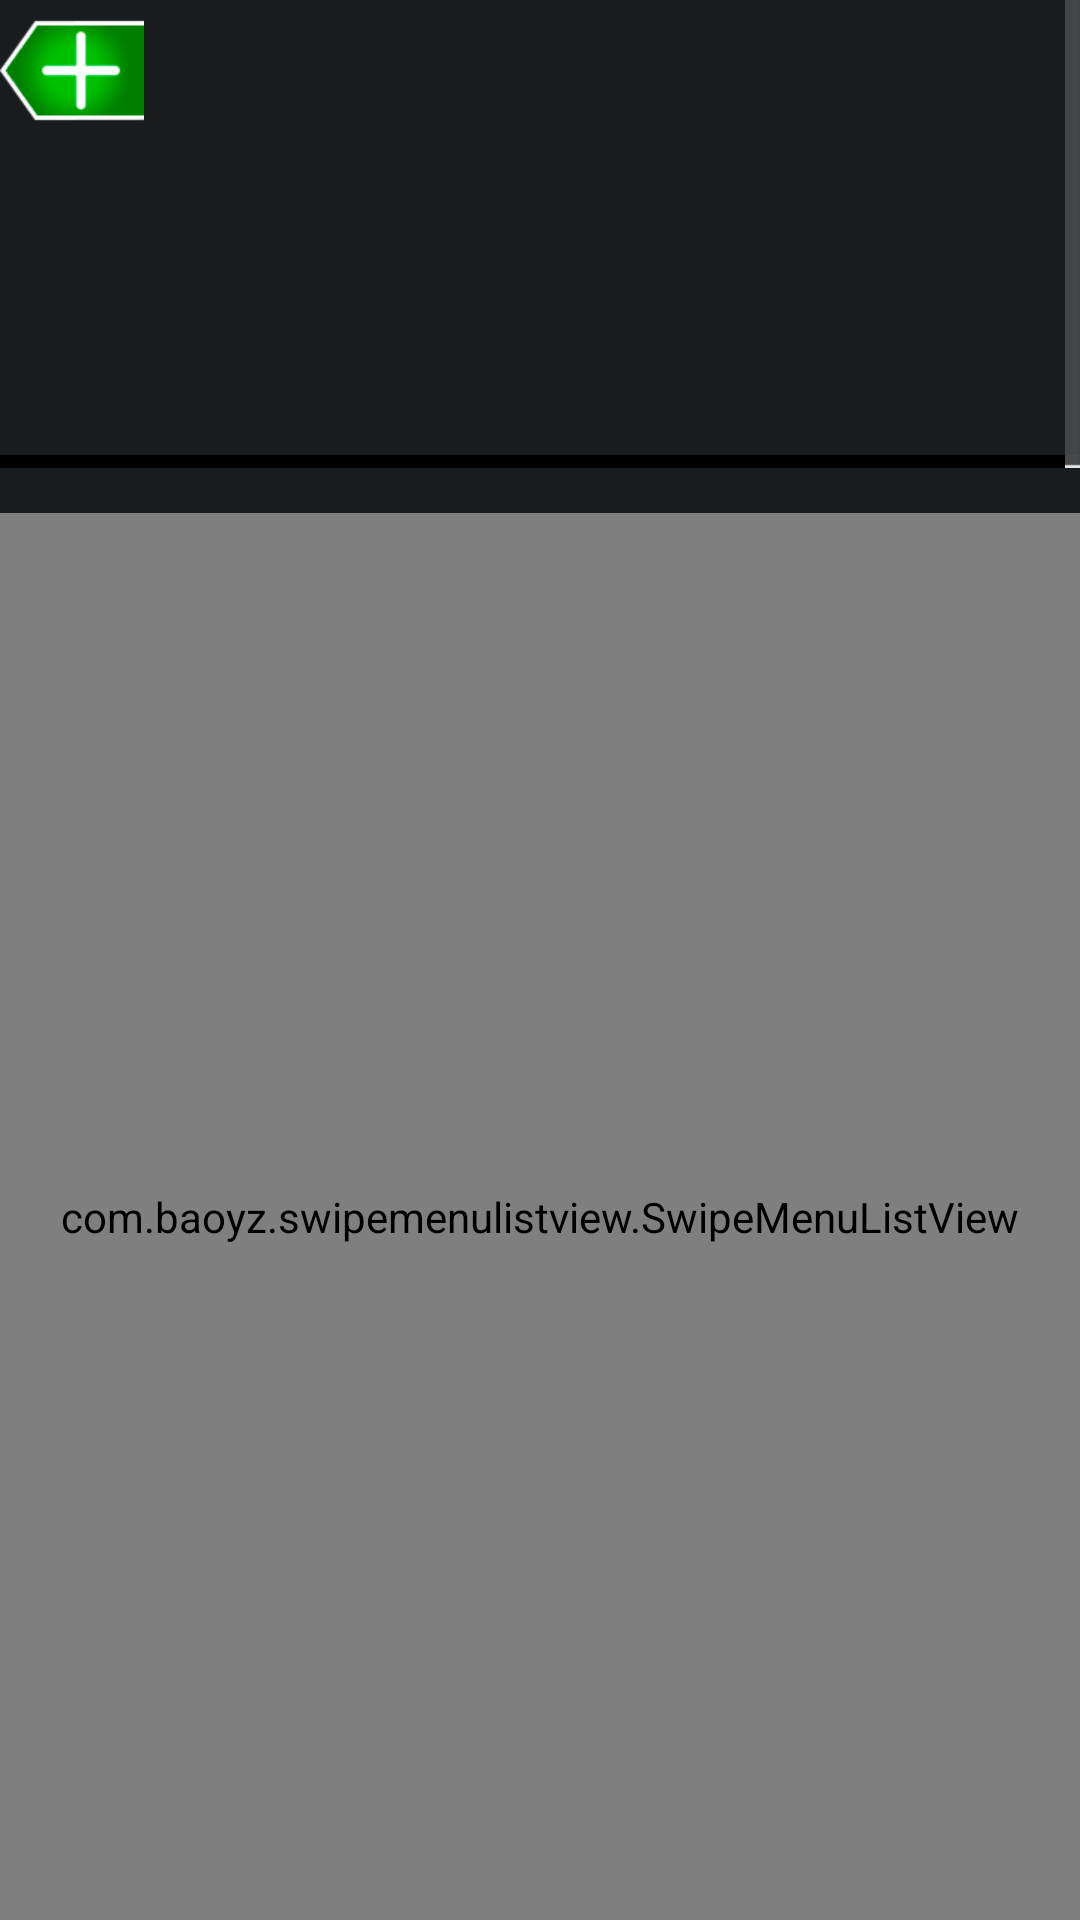

Named icons in this screenshot (1080 x 1920) and their bounding boxes, (x1, y1, x2, y2):
plus: (0, 20, 144, 121)
